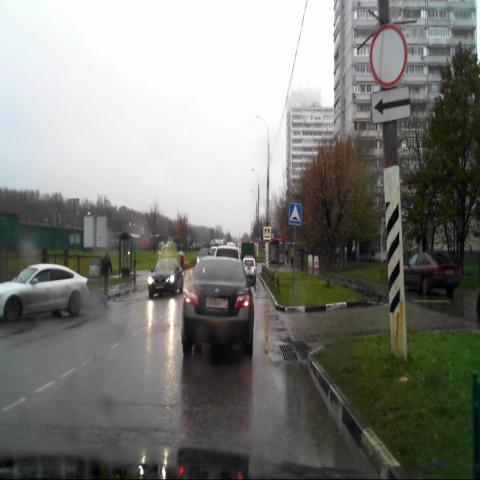3_2: (370, 25, 407, 88)
5_20: (288, 203, 301, 225)
8_3_2: (370, 87, 410, 124)
